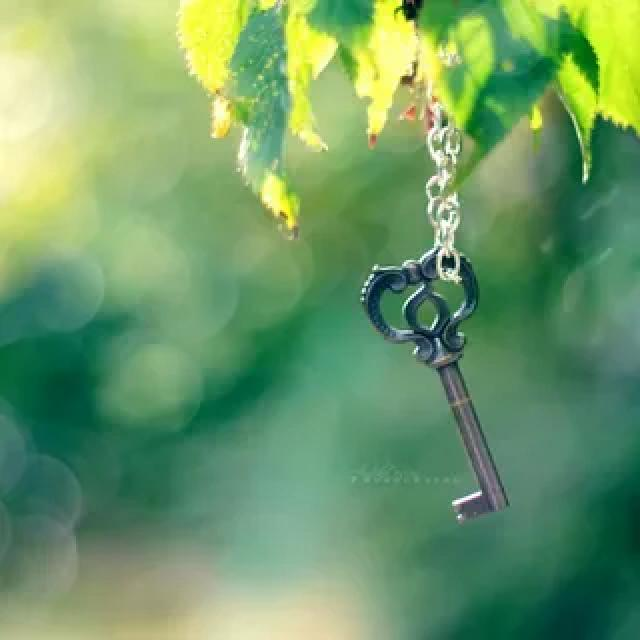key: (349, 238, 537, 537)
